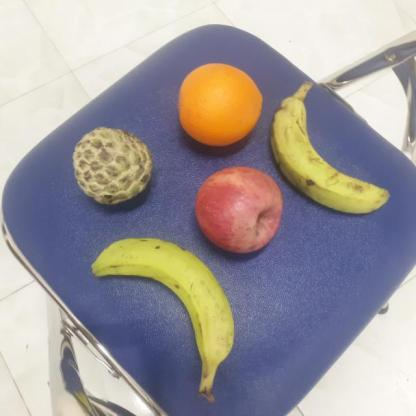annona: (69, 122, 156, 204)
apple: (190, 162, 286, 252)
banana: (88, 236, 242, 376), (268, 91, 390, 214)
orange: (175, 59, 265, 148)
